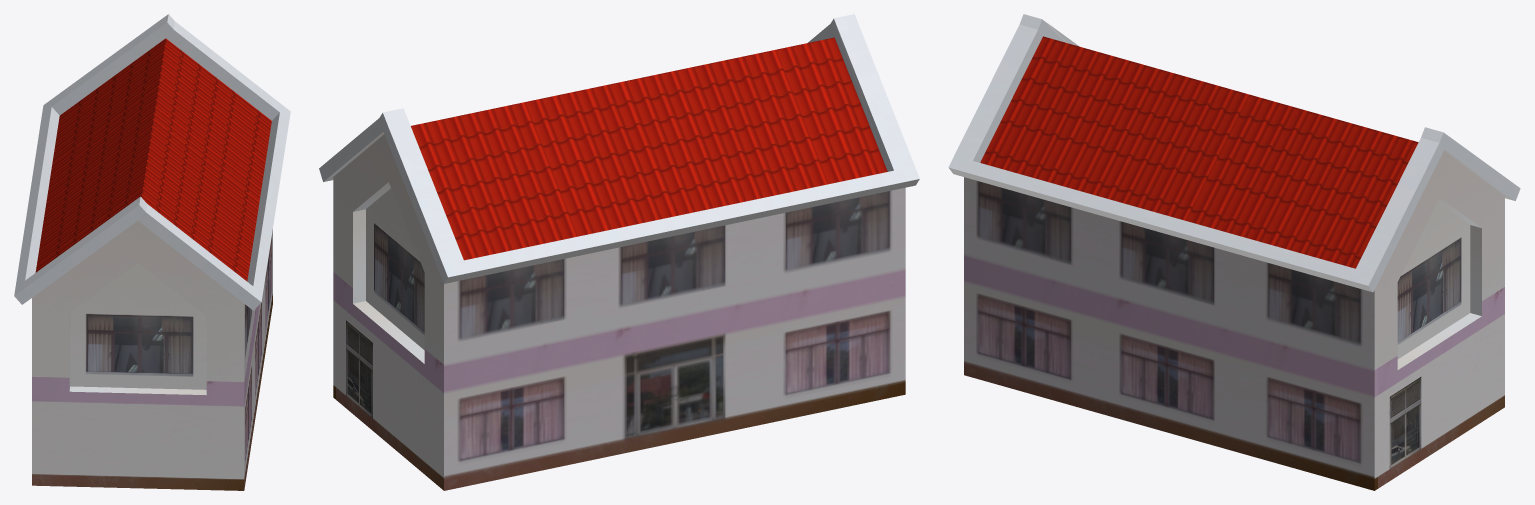
File: Samnakngan Yotha Thi Kan Phangmueang Changwat Chachoengsao 2.glb
3 renders of one model, left to right at view 1: azimuth 30°, elevation 25°; view 2: azimuth 150°, elevation 25°; view 3: azimuth 270°, elevation 25°, orthographic. The views are drawn at different scales.
Parts seen in each view (by area): view 1: DPT_KMZ1.kmz; view 2: DPT_KMZ1.kmz; view 3: DPT_KMZ1.kmz.
Boxes of the visible parts, box(x1,y1,x2,y2) form: DPT_KMZ1.kmz: box(14, 14, 290, 490); DPT_KMZ1.kmz: box(319, 14, 919, 490); DPT_KMZ1.kmz: box(948, 14, 1520, 490).
Bounding box in the file's own units: 18.29 × 12.59 × 20.49.
Materials: 112 (99 with a texture image).
